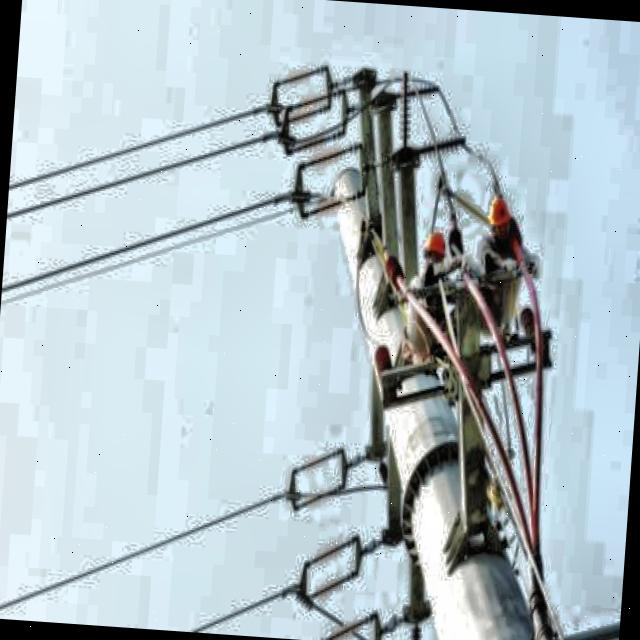helmet: (418, 223, 450, 280), (483, 197, 518, 246)
